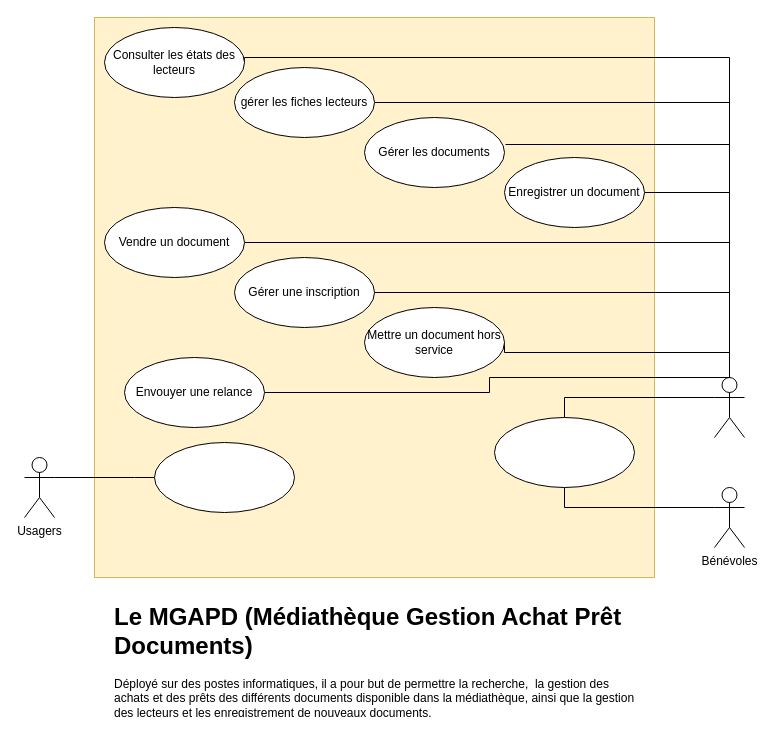
This 775x736 diagram has some shape labels left out. The shapes that lost their labels are listed below. From the top down, each one's centre as x and y in pixels, then its label:
At [729,407]: "Personnel".
At [564,452]: "Gérer le prêt d'un document".
At [224,477]: "Consulter la liste des documents".
